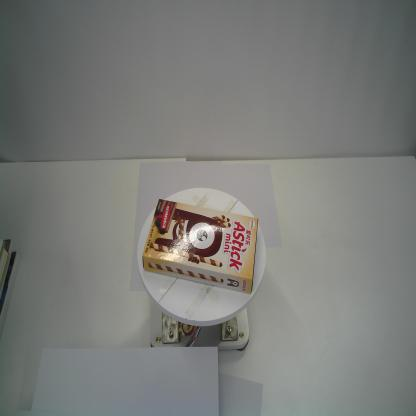Dessert: (142, 199, 259, 293)
